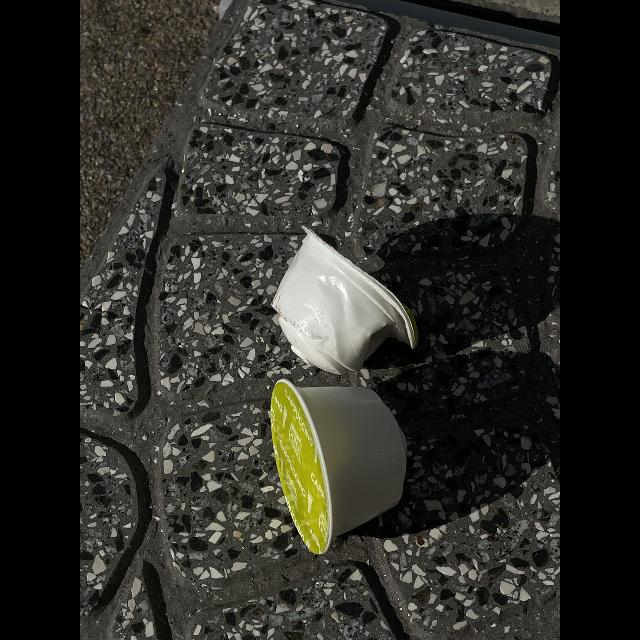damaged_capsule: (258, 213, 442, 381)
intact_capsule: (260, 378, 418, 560)
